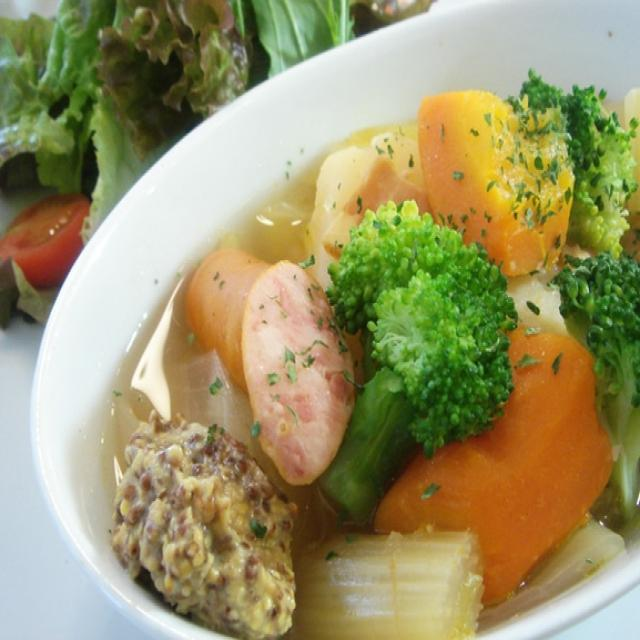汤锅炖物: (40, 5, 633, 628)
